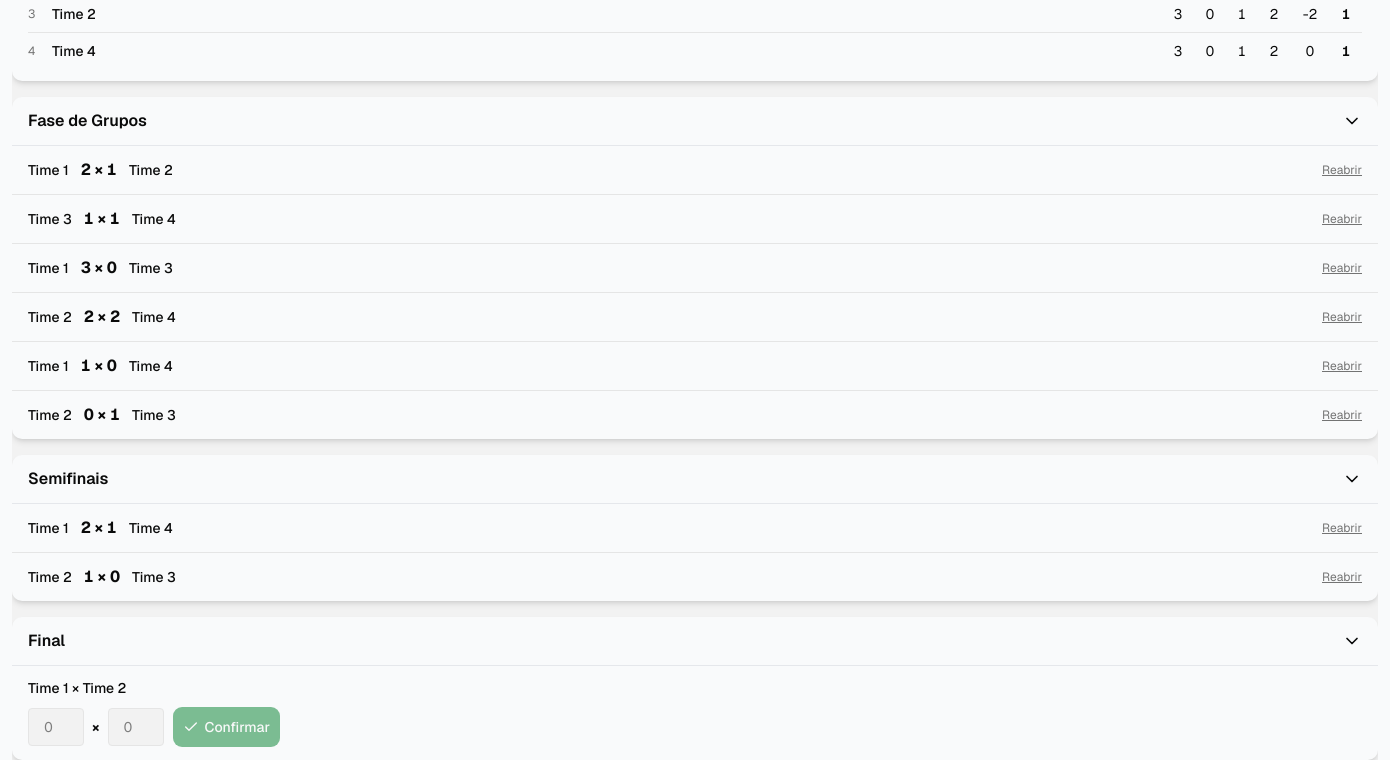
Scenario: TournamentClient › final phase draw validation › blocks confirm and shows error when final ends in draw
(page scrolled)
Type "1" into the 1st number field with placeholder "0".
click(56, 727); type("1")  # box x1=28 y1=708 x2=84 y2=746
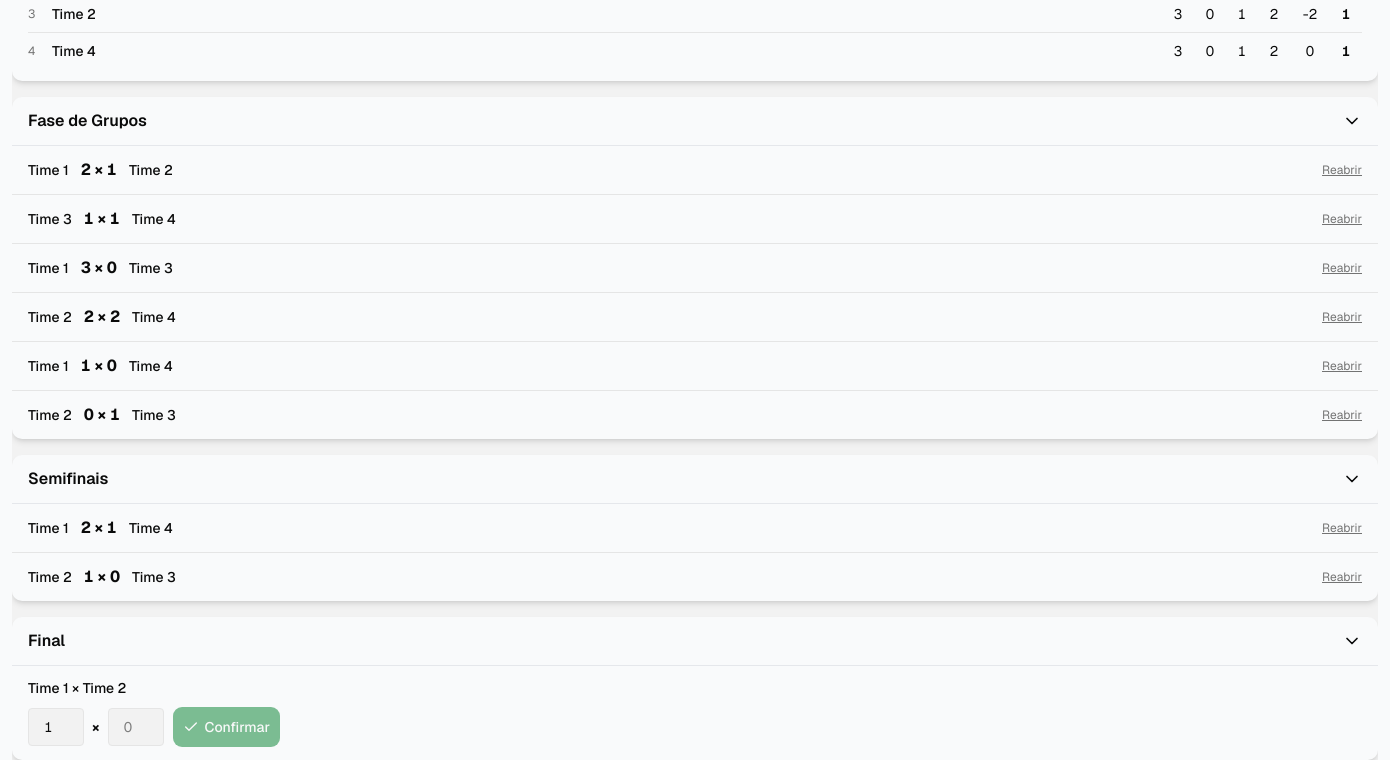
Type "1" into the number field with placeholder "0".
click(136, 727); type("1")  # box x1=108 y1=708 x2=164 y2=746
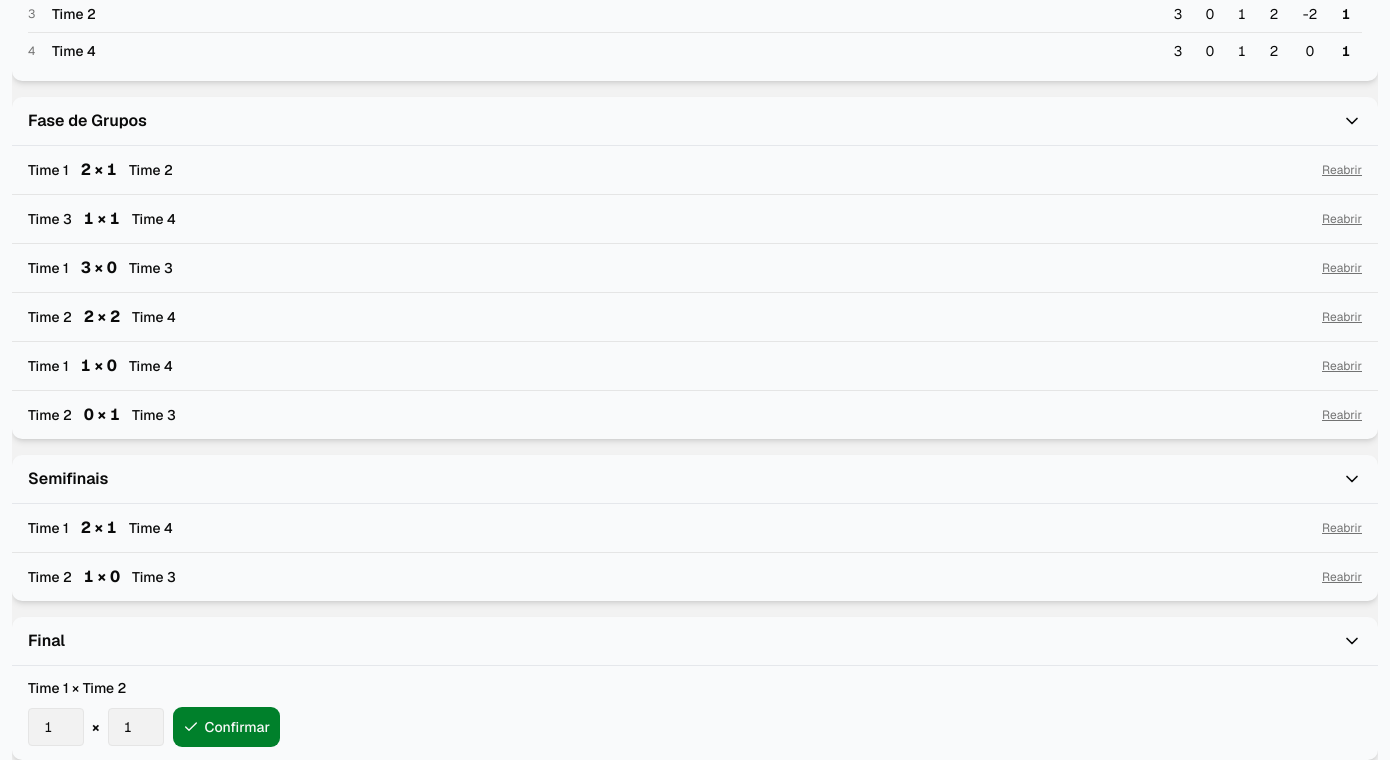
Click the button "Confirmar".
click(226, 727)  # box x1=172 y1=706 x2=281 y2=748
(page scrolled)
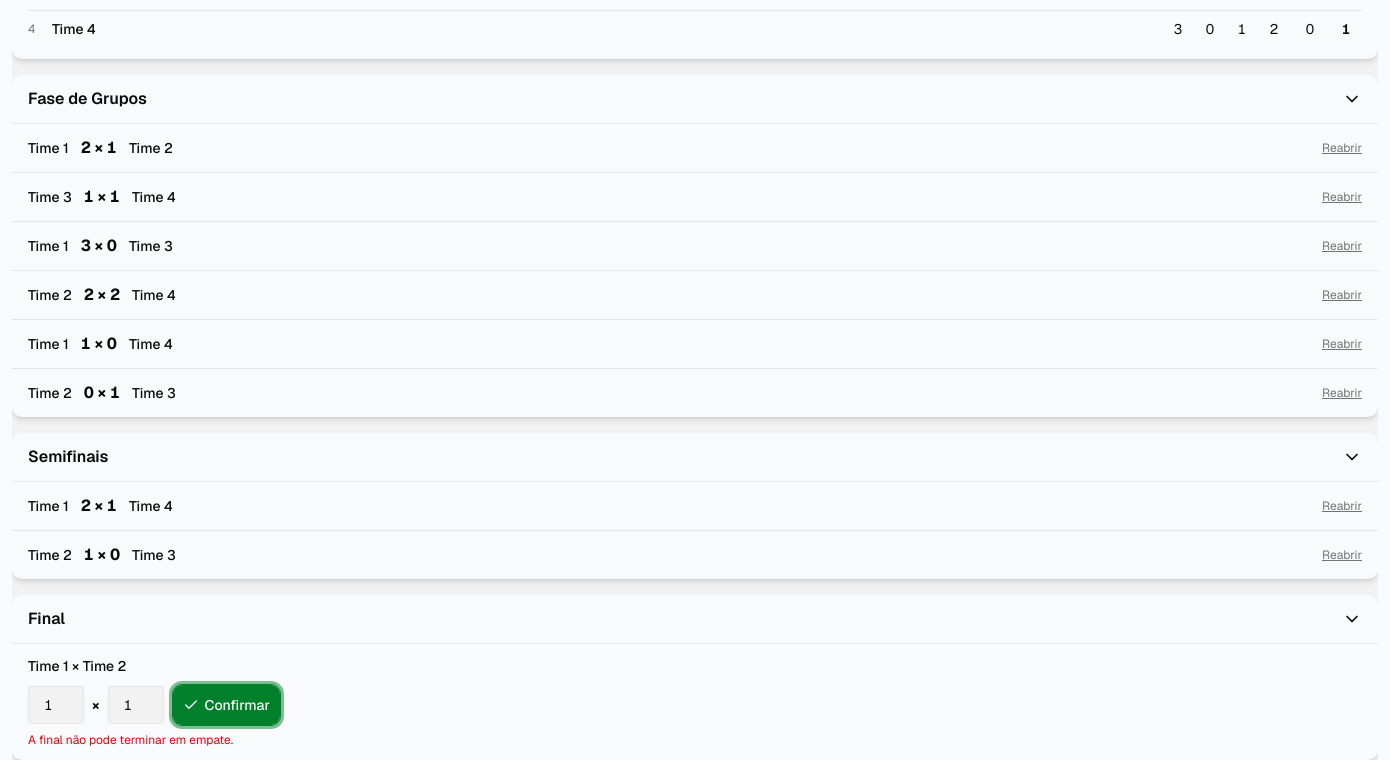
Now the text "A final não pode terminar em empate." is shown, box x1=28 y1=732 x2=233 y2=748
